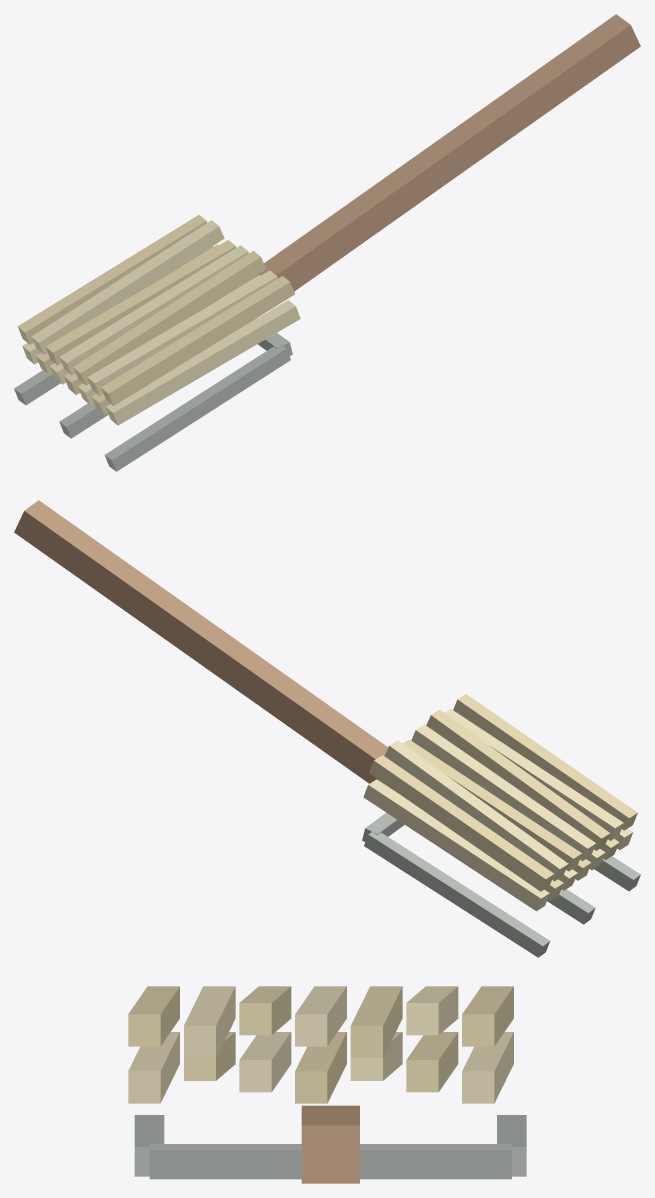
File: crafted-tool-hay-fork-4.glb
3 views of the same model, one above another, from view 1: azimuth 30°, elevation 25°; view 2: azimuth 150°, elevation 25°; view 3: azimuth 270°, elevation 25° (orthographic). The views are drawn at different scales.
Visible parts, largest first — view 1: handle, hay-13, hay-6, hay-11, hay-8, tine-2, hay-10, hay-7, hay-9, hay-12, tine-1, tine; view 2: handle, hay-7, hay, tine, hay-11, hay-8, hay-13, hay-10, hay-12, hay-9, tine-1, tine-2; view 3: fork-shoulder, handle, hay-9, hay-12, hay, hay-3, hay-6, hay-7, hay-10, hay-13, hay-1, hay-4 (+6 smaller).
Part boxes in pixels (x1,y1,x2,y2): handle: (255, 14, 640, 291); hay-13: (101, 276, 294, 405); hay-6: (106, 300, 300, 425); hay-11: (73, 250, 266, 385); hay-8: (31, 220, 224, 354); tine-2: (104, 346, 290, 471); hay-10: (59, 245, 248, 375); hay-7: (17, 215, 207, 344); hay-9: (45, 240, 236, 365); hay-12: (87, 270, 277, 395); tine-1: (59, 403, 108, 438); tine: (14, 370, 60, 405); handle: (14, 500, 388, 783); hay-7: (369, 755, 554, 891); hay: (363, 779, 549, 911); tine: (364, 832, 550, 957); hay-11: (426, 709, 610, 850); hay-8: (384, 740, 568, 881); hay-13: (453, 694, 637, 830); hay-10: (411, 724, 595, 860); hay-12: (445, 709, 623, 840); hay-9: (403, 739, 581, 871); tine-1: (547, 889, 595, 924); tine-2: (594, 856, 640, 891); fork-shoulder: (149, 1144, 511, 1179); handle: (301, 1105, 359, 1183); hay-9: (350, 986, 402, 1057); hay-12: (184, 986, 235, 1057); hay: (462, 1032, 513, 1103); hay-3: (295, 1032, 346, 1103); hay-6: (128, 1032, 179, 1103); hay-7: (462, 986, 513, 1046); hay-10: (295, 986, 346, 1046); hay-13: (128, 986, 179, 1046); hay-1: (406, 1032, 458, 1092); hay-4: (239, 1032, 291, 1092).
Bounding box in the file's own units: 1.02 × 0.4789 × 0.308.
